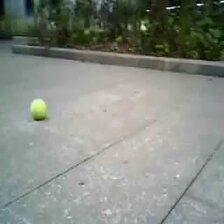tennis: (29, 99, 46, 119)
